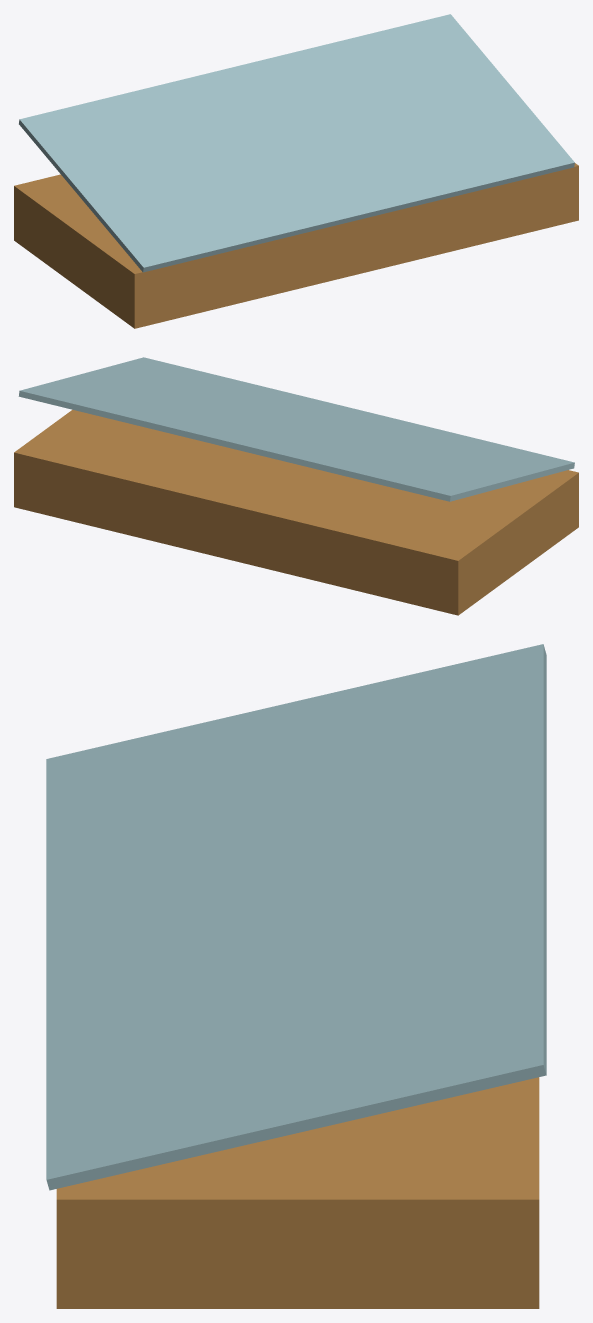
Rendered from greenhouse_frame.glb.
3 views of the same model, one above another, from view 1: azimuth 30°, elevation 25°; view 2: azimuth 150°, elevation 25°; view 3: azimuth 270°, elevation 25° (orthographic). The views are drawn at different scales.
Parts seen in each view (by area): view 1: decor-greenhouse_frame; view 2: decor-greenhouse_frame; view 3: decor-greenhouse_frame.
Part boxes in pixels (box(x1,y1,x2,y2)): decor-greenhouse_frame: box(14, 14, 578, 328); decor-greenhouse_frame: box(14, 357, 578, 615); decor-greenhouse_frame: box(46, 644, 546, 1308).
Bounding box in the file's own units: 3.4 × 0.8692 × 1.66.
